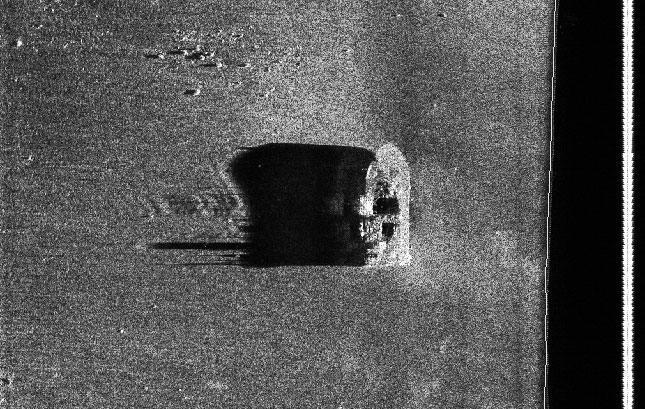ship: (350, 139, 414, 270)
